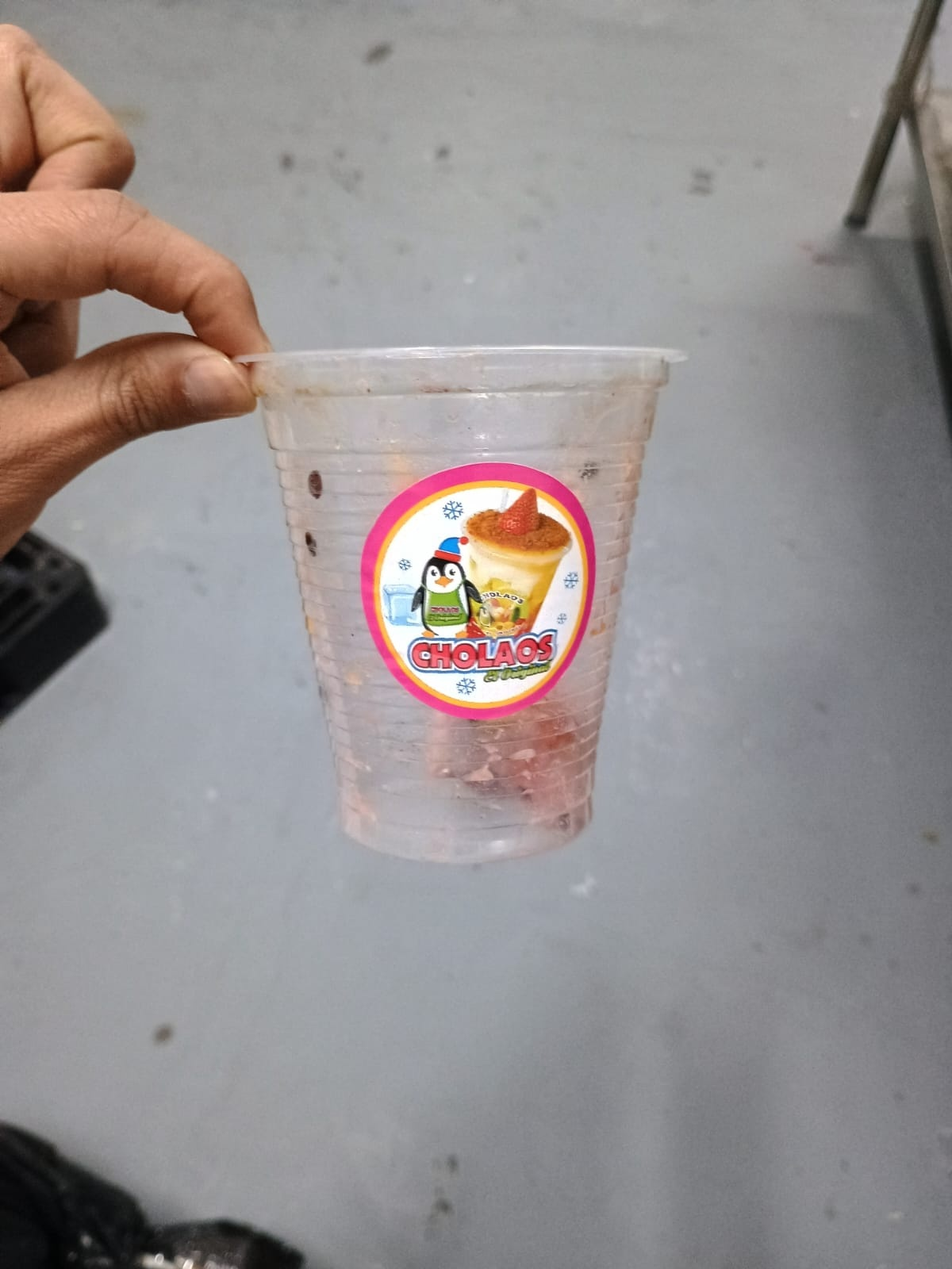Plastico: (234, 345, 685, 865)
